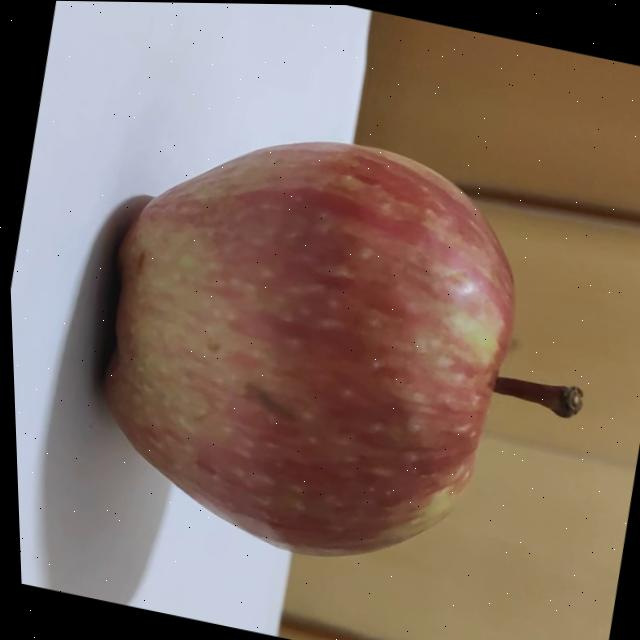Wet: (63, 96, 640, 608)
